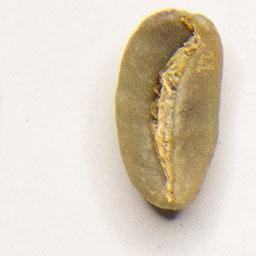longberry: (113, 5, 226, 215)
